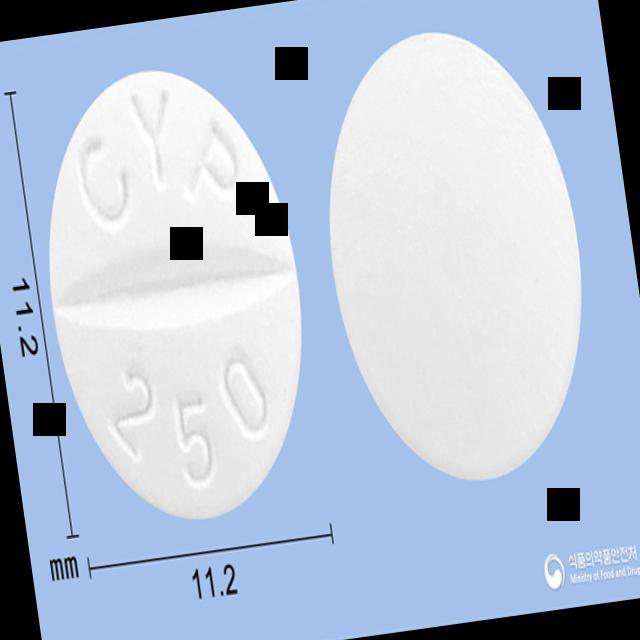Cypro: (19, 48, 330, 538)
